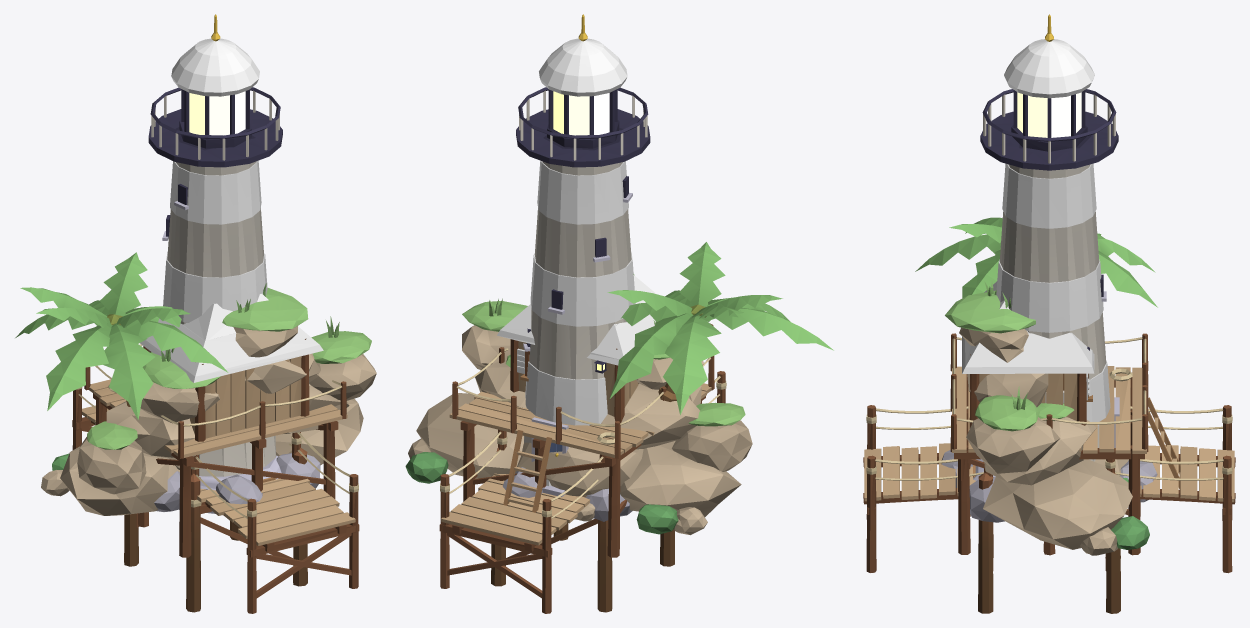
The model's file is props_island.glb.
3 renders of one model, left to right at view 1: azimuth 30°, elevation 25°; view 2: azimuth 150°, elevation 25°; view 3: azimuth 270°, elevation 25°, orthographic.
Visible parts, largest first — view 1: cliff__c_d9c3a5, palm2__c_8fcf78, lighthouse__tint, lighthouse__c_f6efe2, stilthut__c_dcb98f, cliff__c_9bd27e, lighthouse__c_3d3a55, stilthut__c_8a5a3c, bridge__c_dcb98f, bridge__c_8a5a3c, stilthut__tint, pier__c_8a5a3c (+5 smaller); view 2: cliff__c_d9c3a5, lighthouse__tint, palm2__c_8fcf78, lighthouse__c_f6efe2, lighthouse__c_3d3a55, stilthut__c_dcb98f, stilthut__c_8a5a3c, bridge__c_8a5a3c, bridge__c_dcb98f, pier__c_8a5a3c, stilthut__tint, cliff__c_9bd27e (+7 smaller); view 3: cliff__c_d9c3a5, lighthouse__tint, lighthouse__c_f6efe2, bridge__c_dcb98f, lighthouse__c_3d3a55, stilthut__c_dcb98f, stilthut__c_8a5a3c, cliff__c_9bd27e, palm2__c_8fcf78, bridge__c_8a5a3c, stilthut__tint, pier__c_8a5a3c (+6 smaller).
Boxes of the visible parts, <box> form: cliff__c_d9c3a5: <box>41,326,376,515</box>; palm2__c_8fcf78: <box>15,252,228,419</box>; lighthouse__tint: <box>163,38,267,322</box>; lighthouse__c_f6efe2: <box>151,90,279,476</box>; stilthut__c_dcb98f: <box>89,350,347,457</box>; cliff__c_9bd27e: <box>87,283,371,449</box>; lighthouse__c_3d3a55: <box>148,87,282,236</box>; stilthut__c_8a5a3c: <box>84,338,346,557</box>; bridge__c_dcb98f: <box>82,405,355,545</box>; bridge__c_8a5a3c: <box>72,388,359,613</box>; stilthut__tint: <box>140,293,323,382</box>; pier__c_8a5a3c: <box>124,447,307,612</box>; cliff__c_d9c3a5: <box>408,325,752,535</box>; lighthouse__tint: <box>525,38,635,425</box>; palm2__c_8fcf78: <box>607,242,833,414</box>; lighthouse__c_f6efe2: <box>519,90,647,443</box>; lighthouse__c_3d3a55: <box>516,87,650,346</box>; stilthut__c_dcb98f: <box>449,341,711,507</box>; stilthut__c_8a5a3c: <box>452,339,714,557</box>; bridge__c_8a5a3c: <box>439,371,725,613</box>; bridge__c_dcb98f: <box>441,475,590,545</box>; pier__c_8a5a3c: <box>491,447,674,612</box>; stilthut__tint: <box>497,275,656,373</box>; cliff__c_9bd27e: <box>462,274,745,426</box>; cliff__c_d9c3a5: <box>959,327,1132,555</box>; lighthouse__tint: <box>996,39,1110,425</box>; lighthouse__c_f6efe2: <box>983,94,1115,461</box>; bridge__c_dcb98f: <box>864,443,1234,502</box>; lighthouse__c_3d3a55: <box>980,89,1118,350</box>; stilthut__c_dcb98f: <box>952,366,1180,478</box>; stilthut__c_8a5a3c: <box>950,333,1148,555</box>; cliff__c_9bd27e: <box>945,279,1074,431</box>; palm2__c_8fcf78: <box>915,217,1157,307</box>; bridge__c_8a5a3c: <box>863,405,1235,573</box>; stilthut__tint: <box>962,281,1094,400</box>; pier__c_8a5a3c: <box>978,472,1120,613</box>.
Size of the model in its own units: 7.98 by 11.85 by 7.01.
